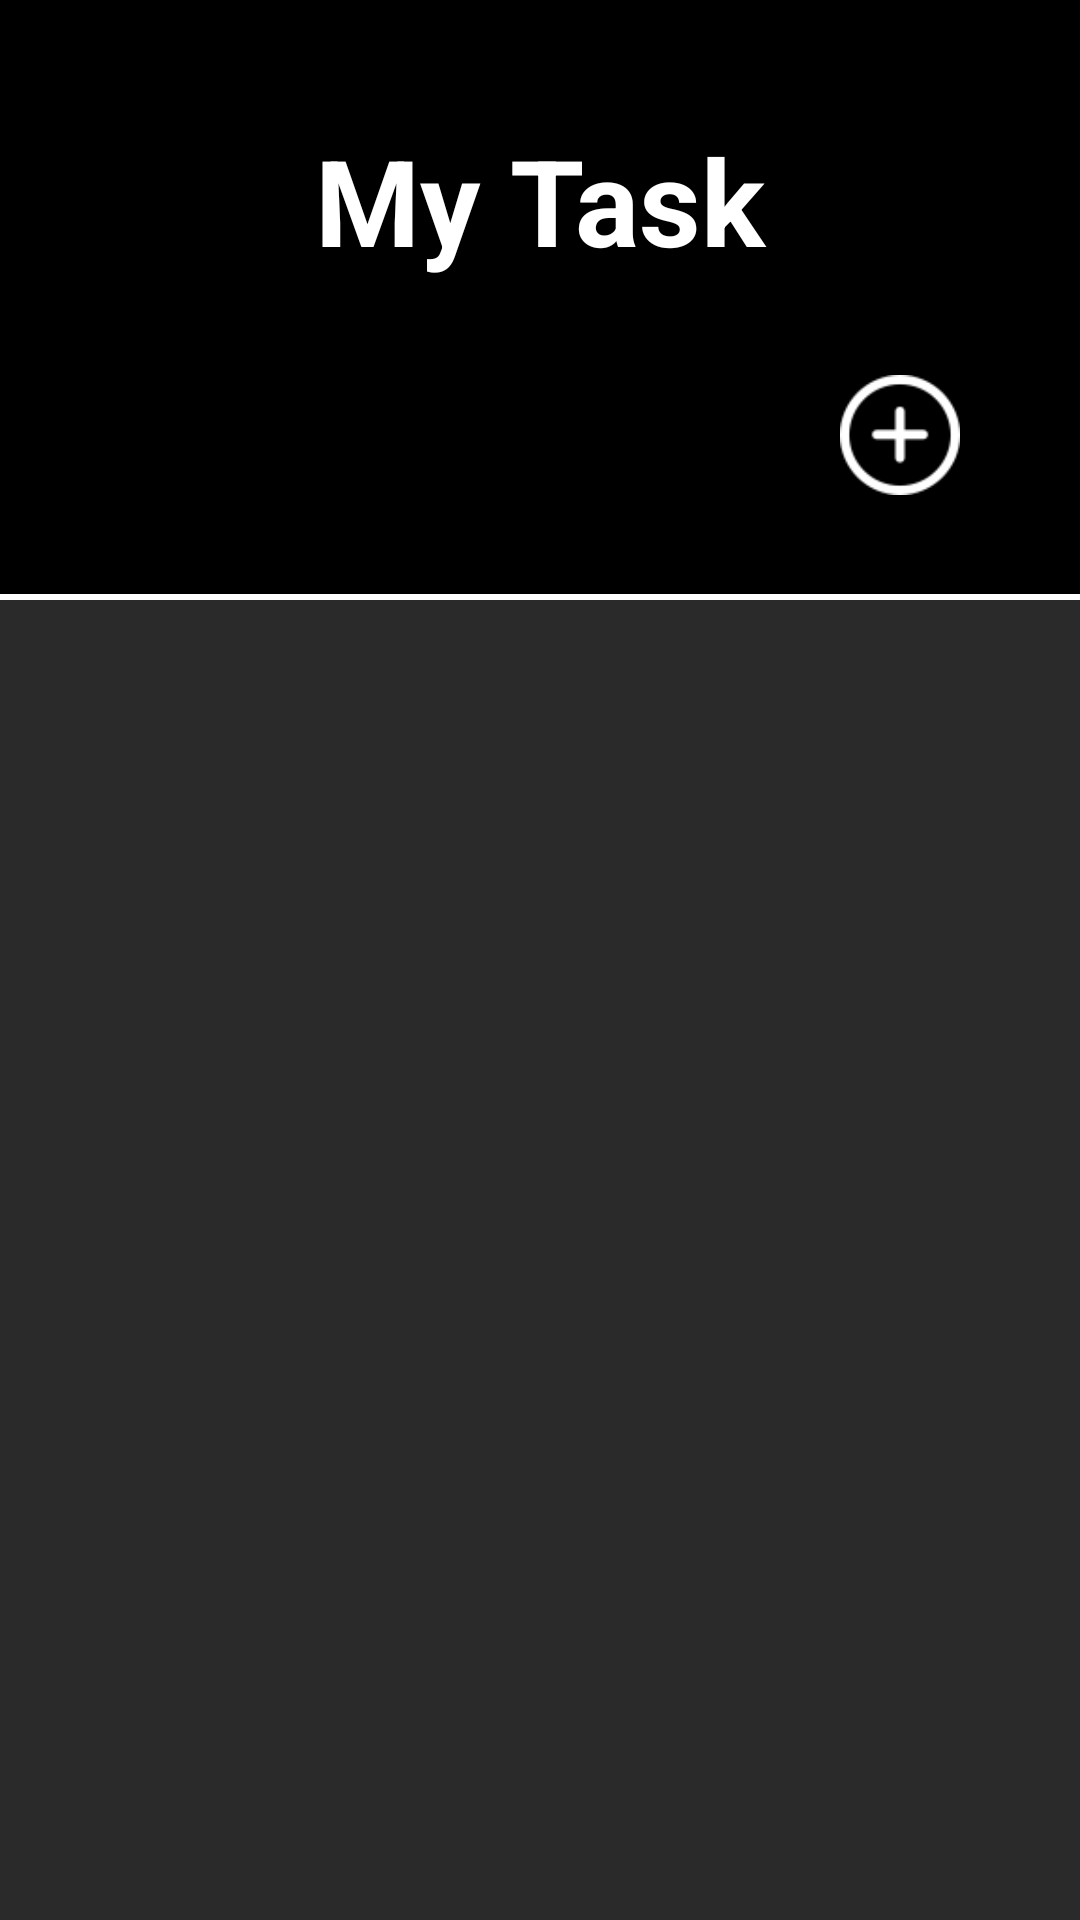

Named icons in this screenshot (1080*1920) and their centers, (x,y):
addicon: (900,435)
